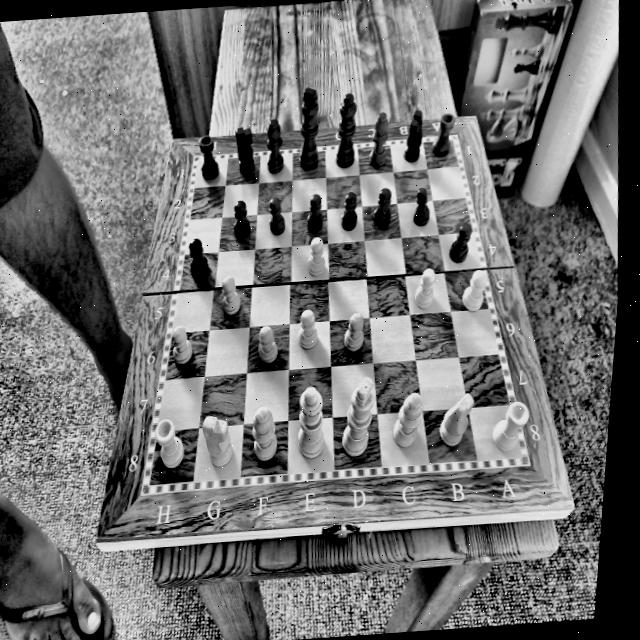black-bishop: (260, 114, 293, 178), (363, 109, 396, 173)
black-king: (290, 84, 328, 176)
black-knight: (396, 107, 431, 167), (228, 123, 263, 180)
black-pawn: (181, 234, 215, 284), (444, 216, 478, 266), (226, 195, 258, 245), (259, 193, 292, 239), (367, 186, 397, 230), (409, 184, 436, 231), (301, 192, 328, 234), (336, 190, 362, 232)
black-queen: (327, 89, 366, 174)
black-rook: (427, 108, 461, 160), (192, 134, 225, 184)
white-bishop: (246, 402, 287, 471), (387, 388, 428, 456)
white-king: (335, 376, 382, 464)
white-knight: (432, 388, 481, 456), (196, 411, 244, 474)
white-pawn: (165, 321, 200, 374), (457, 266, 493, 316), (409, 266, 444, 312), (293, 306, 325, 354), (213, 272, 246, 318), (300, 235, 333, 281), (340, 312, 371, 360), (253, 323, 284, 369)
white-queen: (292, 381, 334, 466)
white-rook: (484, 397, 535, 462), (148, 416, 192, 481)
